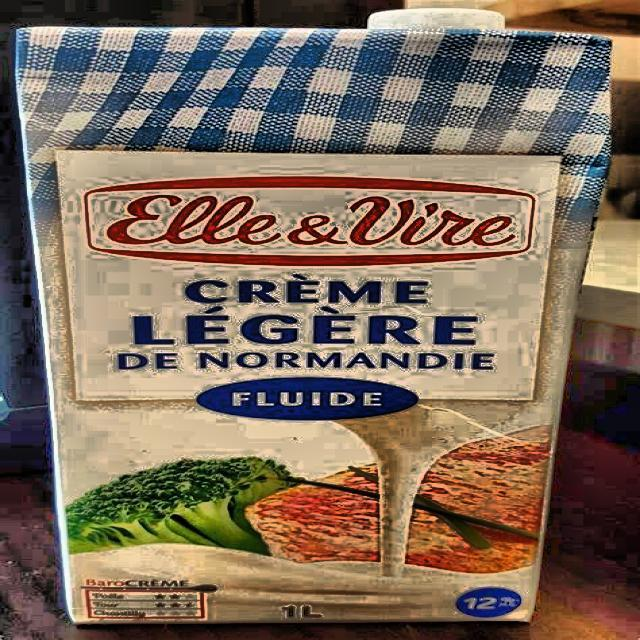cardboard: (12, 24, 616, 624)
